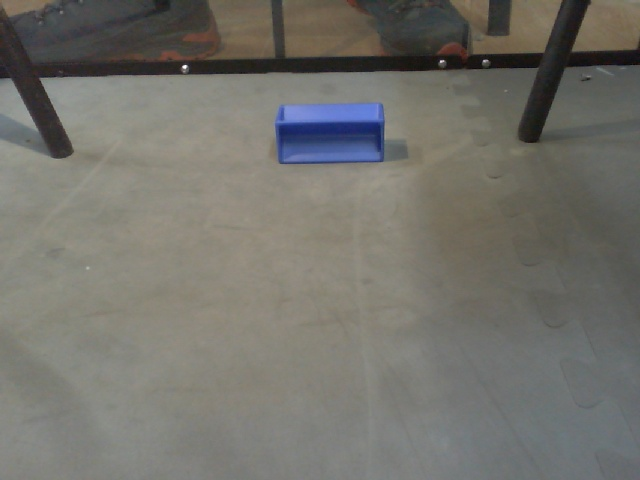BlueSample: (272, 100, 388, 166)
